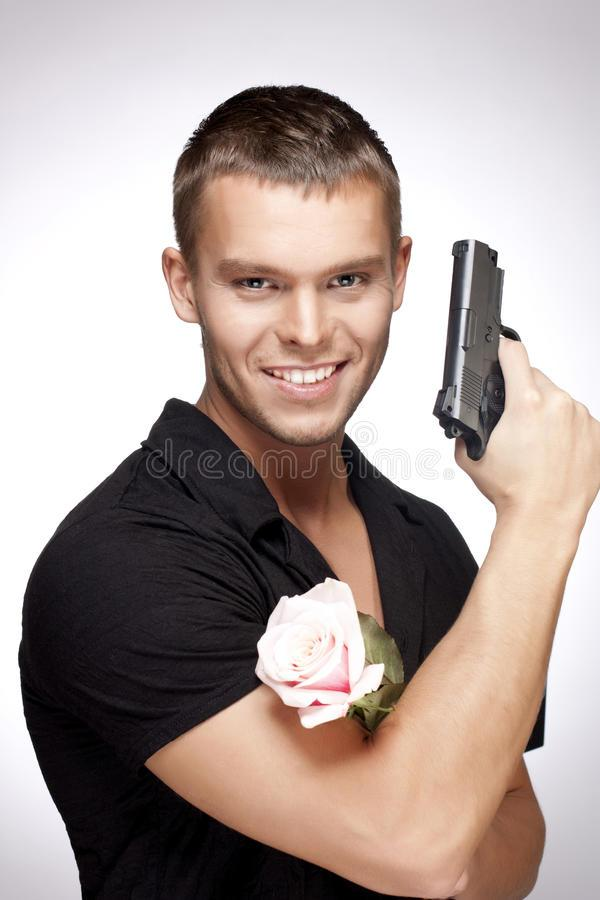criminal: (15, 82, 600, 900)
weapon: (423, 228, 544, 473)
